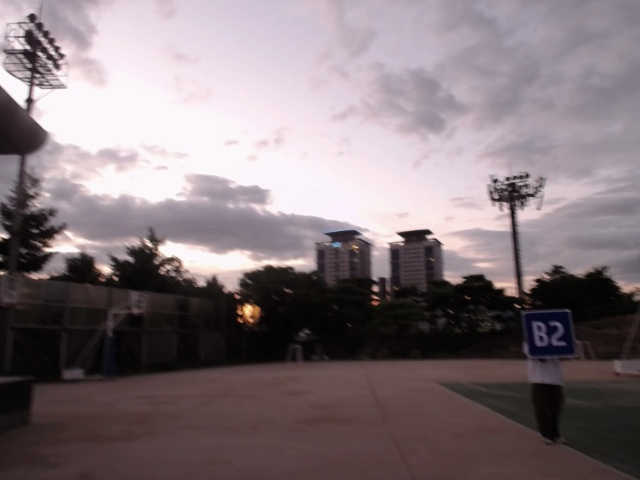delivery_b2: (521, 308, 578, 359)
